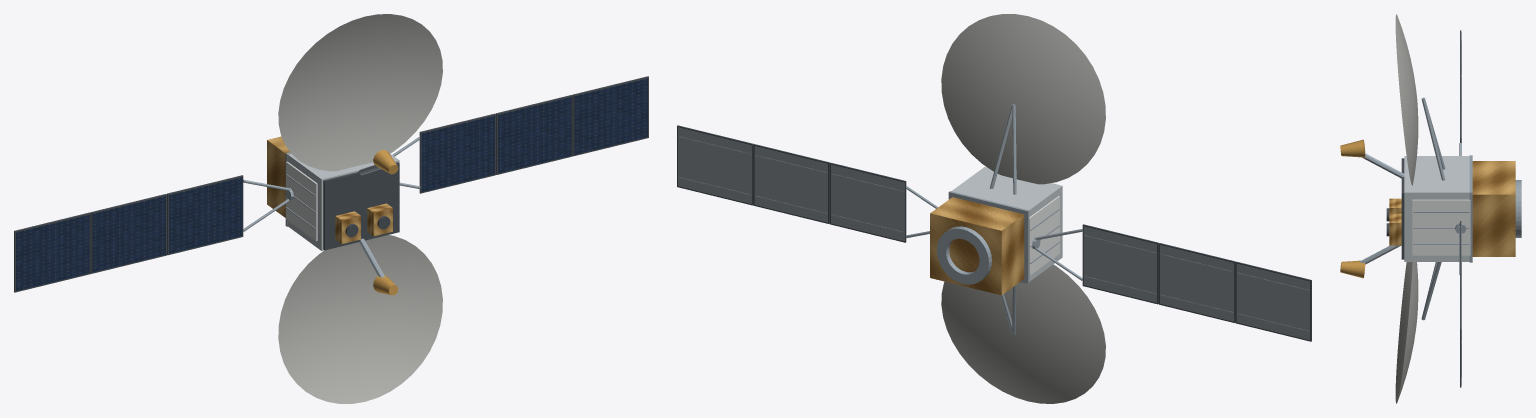
The model's file is boeing-601-msat.glb.
3 views of the same model, side by side, from view 1: azimuth 30°, elevation 25°; view 2: azimuth 150°, elevation 25°; view 3: azimuth 270°, elevation 25° (orthographic). The views are drawn at different scales.
Parts seen in each view (by area): view 1: Communications reflector (×2), Solar cell panel (×6), Earth-facing deck, Solar panel frame (×6), Radiator face, Payload module, Service module, Communications feed assembly (×2); view 2: Communications reflector (×2), Rear array substrate (×6), Service module, Solar panel frame (×6), Payload module, Launch adapter ring, Radiator face, Module interface; view 3: Service module, Communications reflector (×2), Payload module, Radiator face, Feed horn (×2), Communications feed assembly (×2), Reflector support (×2), Offset feed support (×2), Launch adapter ring, Earth-facing deck, Module interface, Solar panel frame.
Boxes of the visible parts, box(x1,y1,x2,y2) form: Communications reflector (×2): box(278, 14, 442, 403); Solar cell panel (×6): box(16, 78, 647, 290); Earth-facing deck: box(323, 162, 399, 250); Solar panel frame (×6): box(14, 76, 648, 292); Radiator face: box(286, 161, 317, 241); Payload module: box(287, 153, 399, 250); Service module: box(267, 136, 289, 217); Communications feed assembly (×2): box(335, 203, 392, 244); Communications reflector (×2): box(941, 14, 1105, 403); Rear array substrate (×6): box(678, 127, 1309, 340); Service module: box(930, 197, 1024, 295); Solar panel frame (×6): box(677, 125, 1311, 341); Payload module: box(951, 167, 1062, 281); Launch adapter ring: box(936, 226, 991, 284); Radiator face: box(1028, 196, 1059, 275); Module interface: box(948, 191, 1029, 283); Service module: box(1472, 161, 1515, 256); Communications reflector (×2): box(1395, 14, 1418, 403); Payload module: box(1404, 156, 1469, 261); Radiator face: box(1412, 199, 1470, 255); Feed horn (×2): box(1340, 139, 1365, 278); Communications feed assembly (×2): box(1389, 198, 1401, 245); Reflector support (×2): box(1421, 98, 1445, 320); Offset feed support (×2): box(1360, 153, 1404, 264); Launch adapter ring: box(1515, 180, 1521, 237); Earth-facing deck: box(1401, 158, 1404, 259); Module interface: box(1469, 155, 1472, 262); Solar panel frame: box(1460, 293, 1461, 387).
Bounding box in the file's own units: 21.97 × 12.76 × 5.64.
9 materials, 2 textured.
